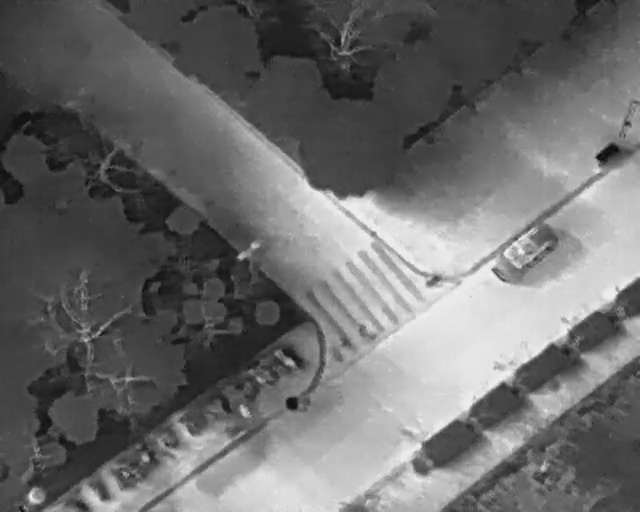Car: (485, 213, 568, 288)
